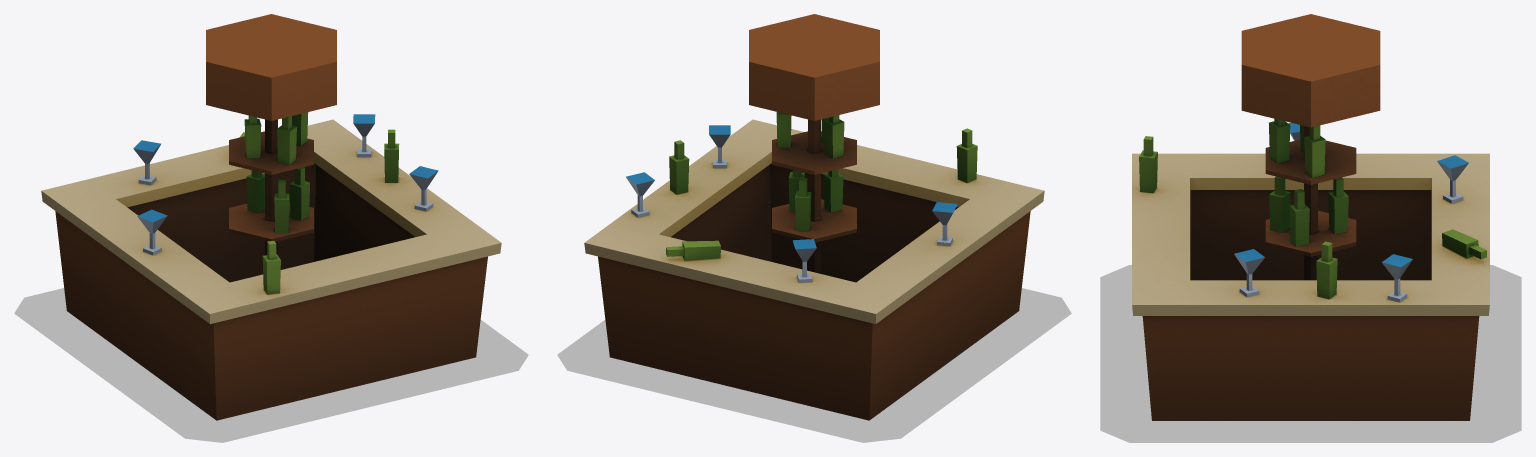
Rendered from 3x3_bar_counter.FBX.
The picture shows the model from 3 angles, left to right: view 1: azimuth 30°, elevation 25°; view 2: azimuth 150°, elevation 25°; view 3: azimuth 270°, elevation 25°; orthographic projection. The views are drawn at different scales.
Visible parts, largest first — view 1: 3x3_bar_counter, 3x3_bar_counter_soft_shadow; view 2: 3x3_bar_counter, 3x3_bar_counter_soft_shadow; view 3: 3x3_bar_counter, 3x3_bar_counter_soft_shadow.
Part boxes in pixels (x1,y1,x2,y2): 3x3_bar_counter: (41,14,501,420); 3x3_bar_counter_soft_shadow: (14,288,528,442); 3x3_bar_counter: (584,14,1044,420); 3x3_bar_counter_soft_shadow: (557,288,1071,442); 3x3_bar_counter: (1132,14,1489,420); 3x3_bar_counter_soft_shadow: (1100,265,1521,442).
Bounding box in the file's own units: 3230 × 2600 × 3230.
